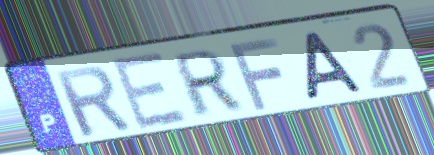2: (352, 21, 412, 92)
A: (301, 29, 369, 103)
E: (107, 49, 192, 134)
F: (225, 35, 284, 112)
R: (49, 63, 135, 140), (171, 46, 245, 121)
